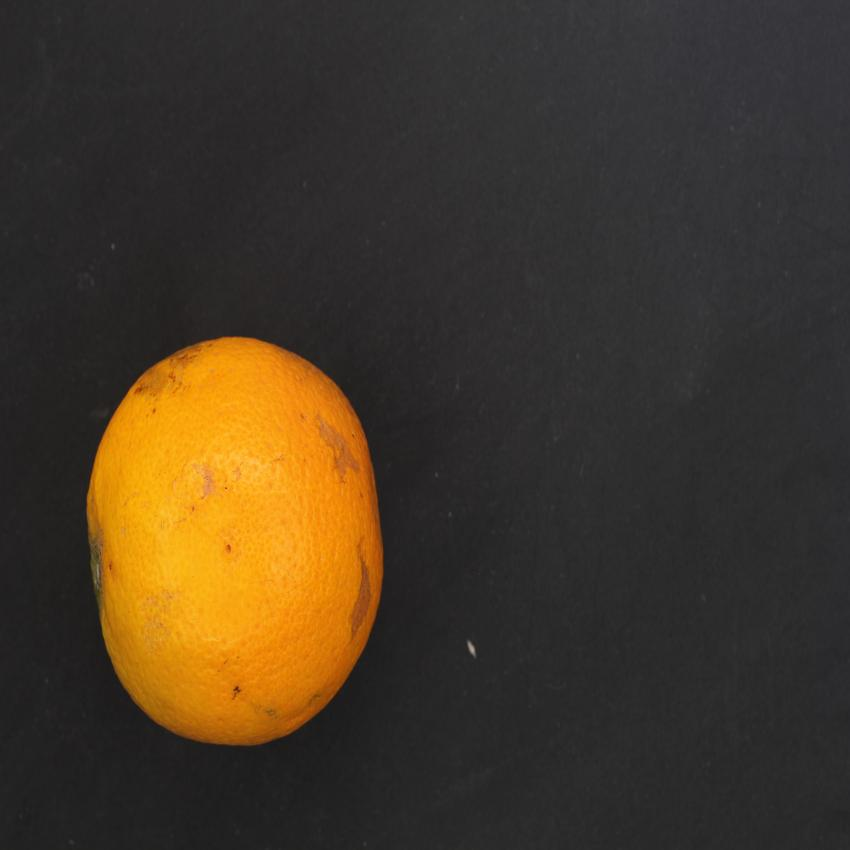Buen estado: (71, 324, 407, 773)
